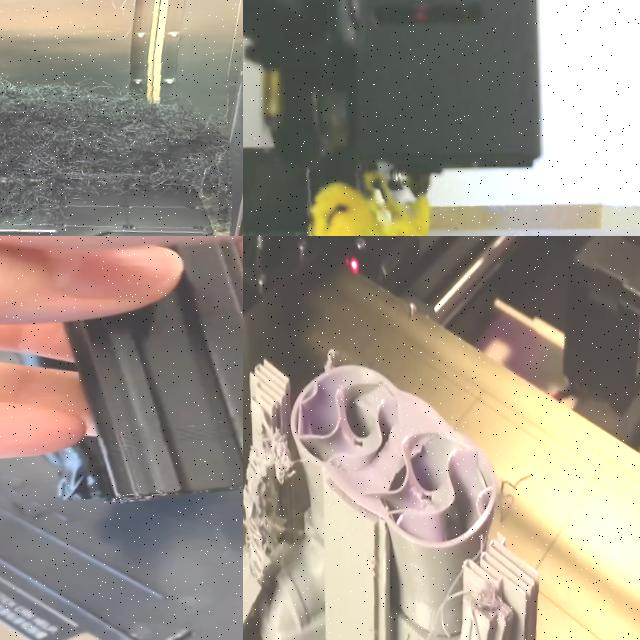spaghetti: (0, 52, 233, 236), (312, 170, 429, 236), (421, 563, 521, 640), (493, 467, 531, 542), (262, 427, 302, 486), (321, 339, 346, 384)
